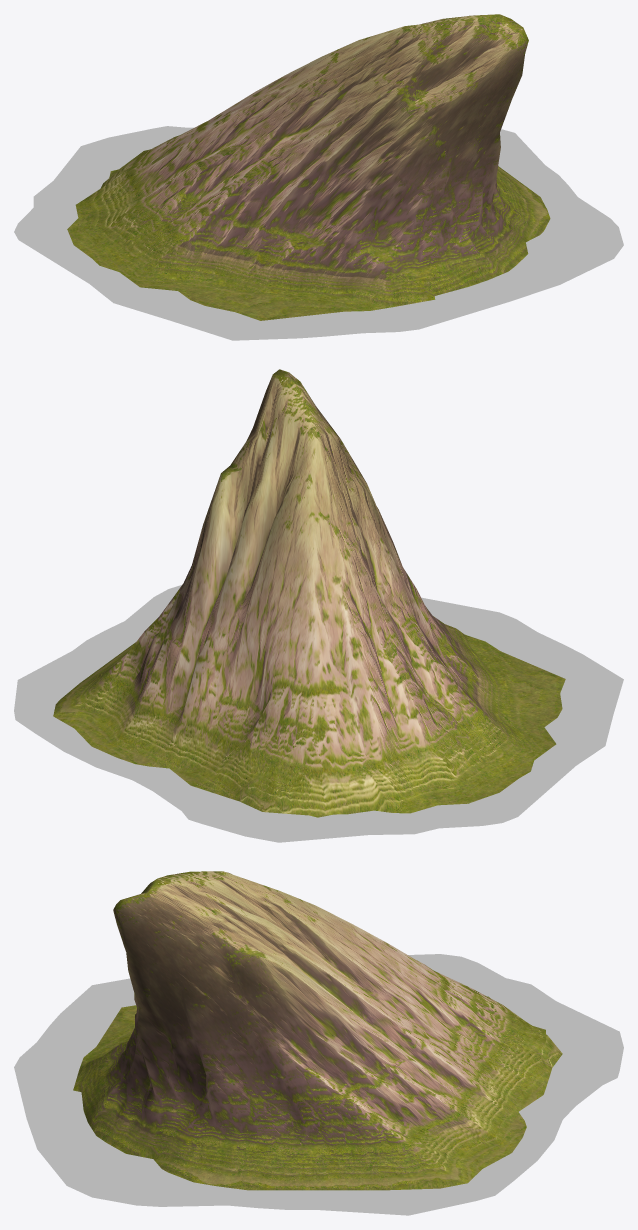
The model's file is build_mountain_A9.FBX.
3 views of the same model, one above another, from view 1: azimuth 30°, elevation 25°; view 2: azimuth 150°, elevation 25°; view 3: azimuth 270°, elevation 25° (orthographic). The views are drawn at different scales.
Visible parts, largest first — view 1: build_mountain_A9, build_mountain_A9_edge; view 2: build_mountain_A9, build_mountain_A9_edge; view 3: build_mountain_A9, build_mountain_A9_edge.
Boxes of the visible parts, <box> form: build_mountain_A9: <box>67,14,550,320</box>; build_mountain_A9_edge: <box>14,126,623,340</box>; build_mountain_A9: <box>53,369,565,817</box>; build_mountain_A9_edge: <box>14,585,623,842</box>; build_mountain_A9: <box>73,871,562,1190</box>; build_mountain_A9_edge: <box>14,954,623,1215</box>.
Size of what is drawn, in the model's own units: 587 by 274 by 578.
